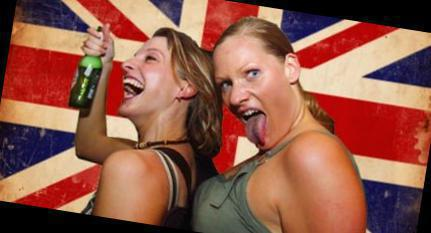Drunk: (214, 47, 286, 146), (118, 42, 184, 120)
